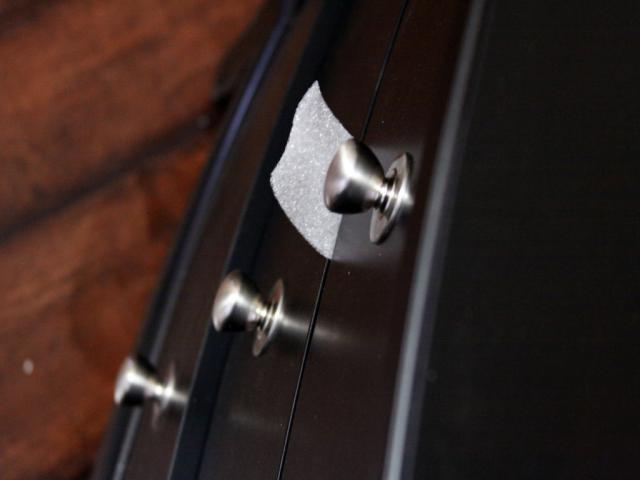Door-handle: (322, 136, 412, 248), (208, 269, 288, 356), (111, 348, 180, 428)
